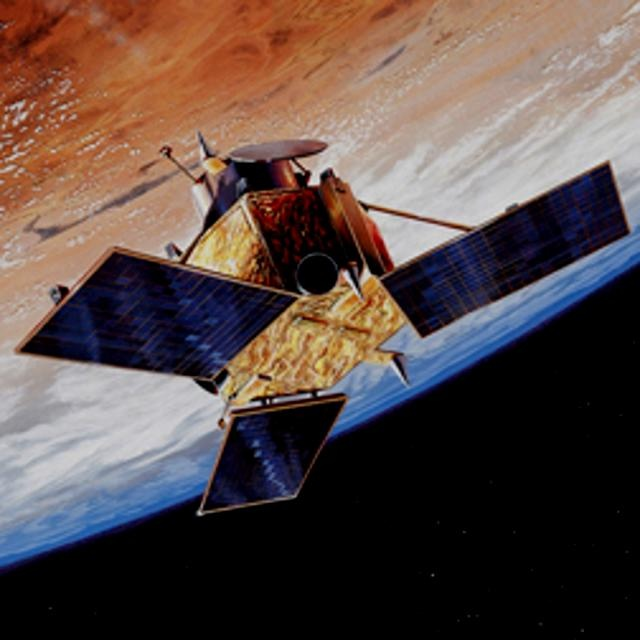satellite: (17, 130, 619, 503)
